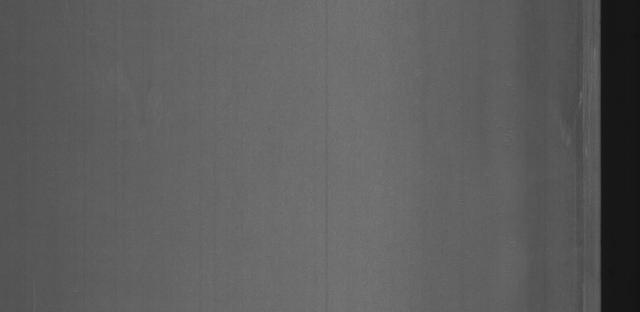silk_spot: (552, 23, 598, 181)
